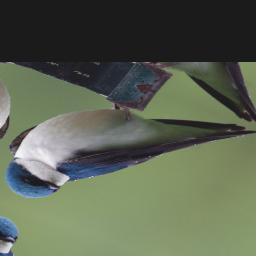Swallow: (0, 64, 256, 247)
